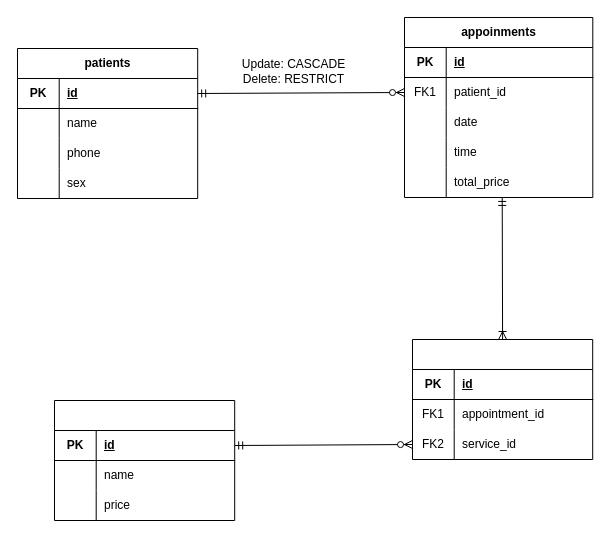
Some shapes in this 611 by 538 pixel diagram are drawn without their labels. Here are the shapes that lost their labels. From the top down, the box of each, then its label:
(412, 338, 593, 460): appointment_services
(54, 400, 235, 520): services
